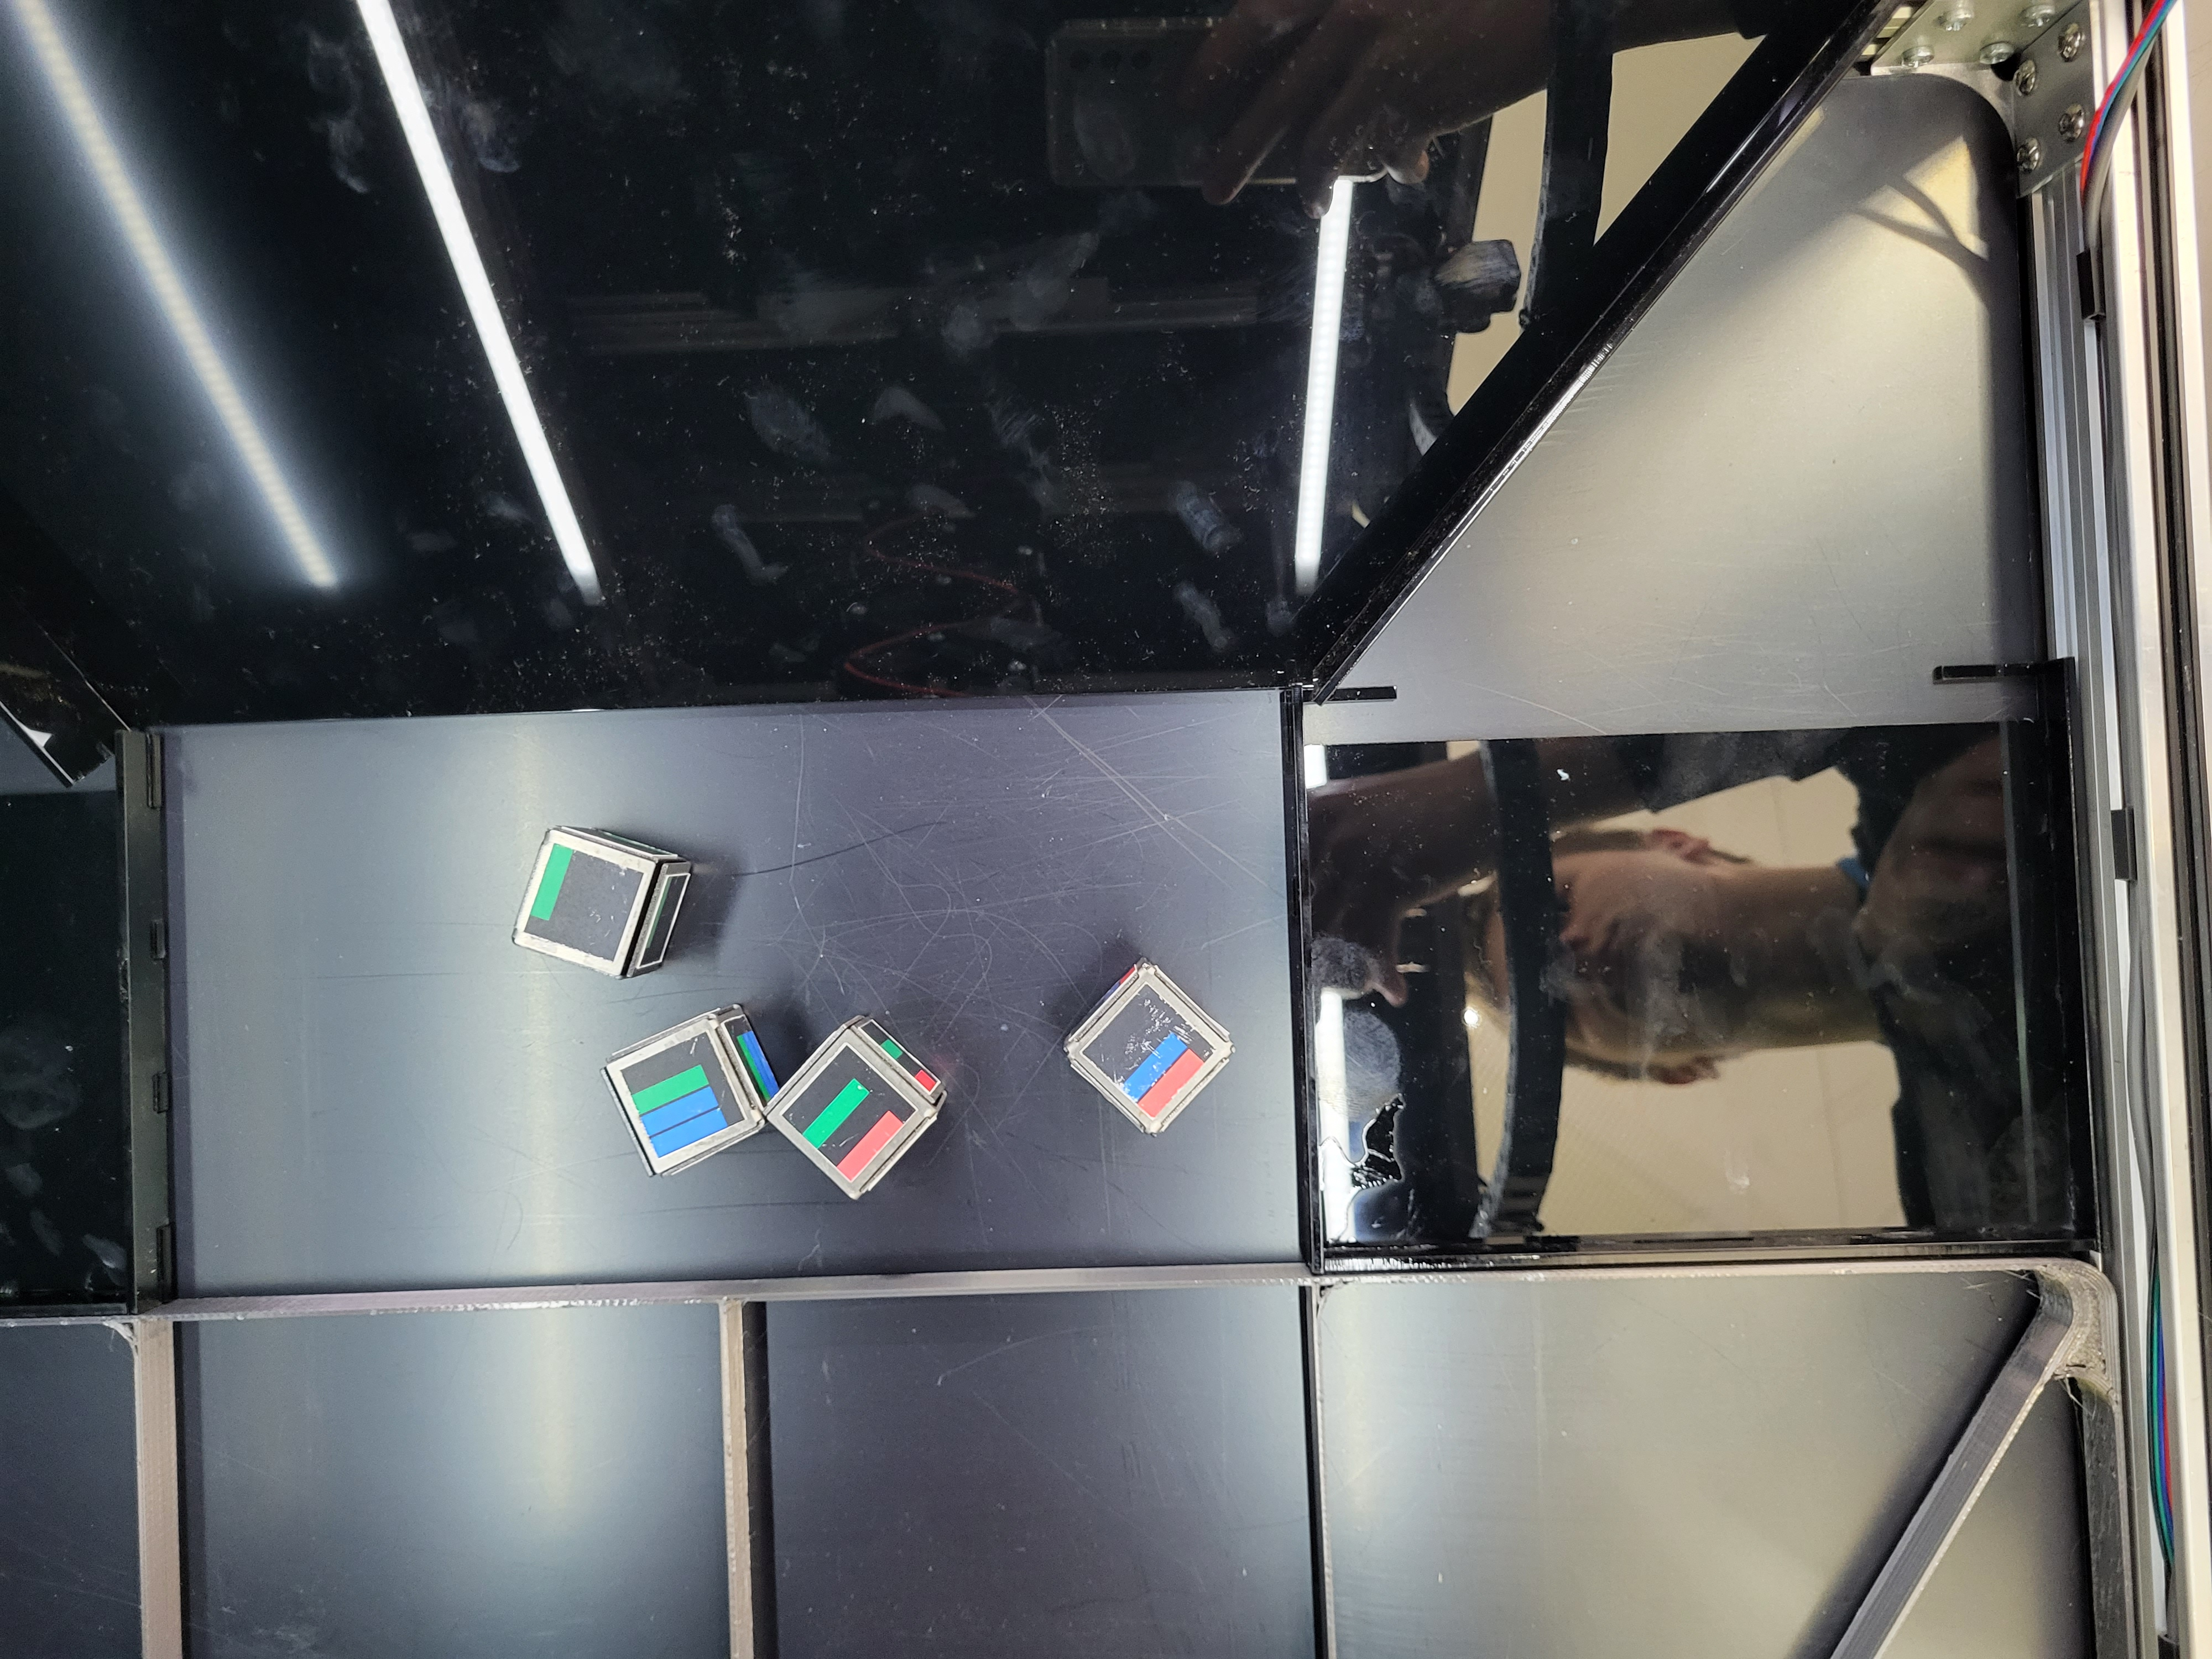Cube: (766, 990, 965, 1213), (1049, 939, 1244, 1152), (592, 990, 773, 1195), (495, 802, 683, 985)
